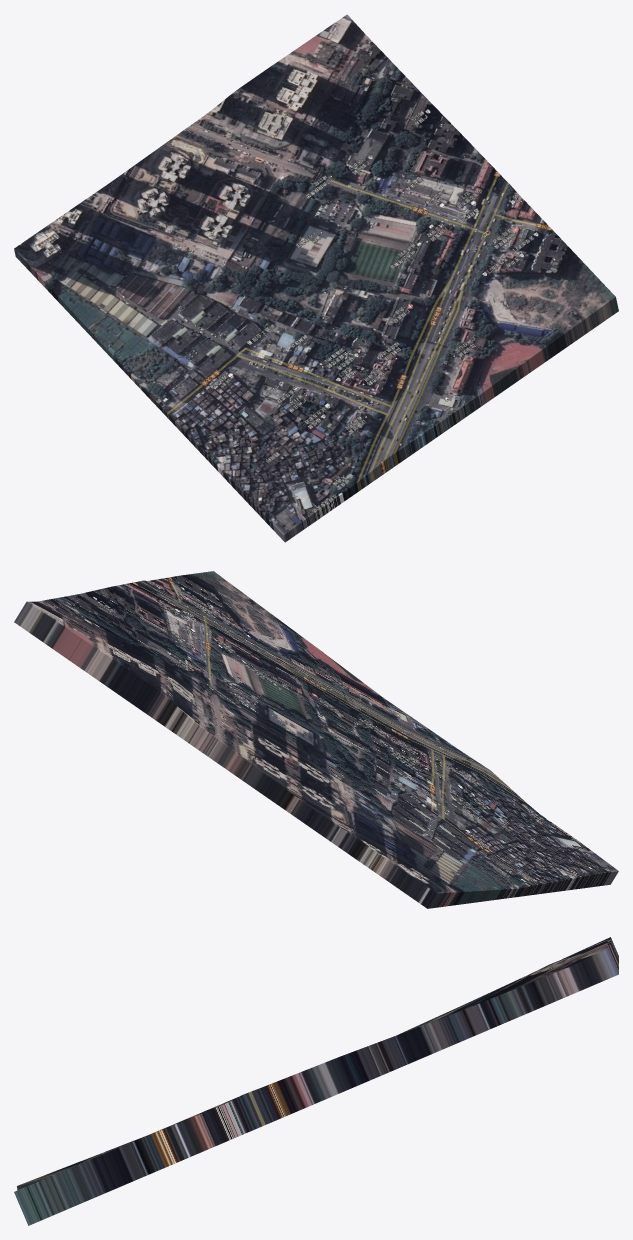
The picture shows the model from 3 angles, top to bottom: view 1: azimuth 30°, elevation 25°; view 2: azimuth 150°, elevation 25°; view 3: azimuth 270°, elevation 25°; orthographic projection. The views are drawn at different scales.
Visible parts, largest first — view 1: 0_19_7; view 2: 0_19_7; view 3: 0_19_7.
Boxes of the visible parts, box(x1,y1,x2,y2) form: 0_19_7: box(14, 14, 618, 542); 0_19_7: box(14, 571, 618, 908); 0_19_7: box(14, 937, 618, 1225).
Bounding box in the file's own units: 599 × 449 × 555.
1 material, 1 textured.
